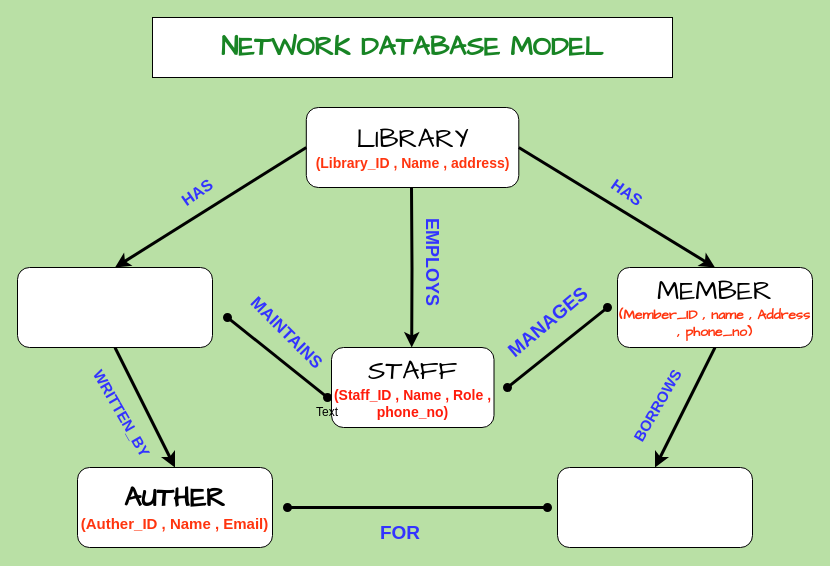
Image size: 830x566. Some labels were removed from this diagram. Each missing label, with the box of its shape:
BOOK (Book_id , Title , Publisher , Year): (16, 266, 212, 348)
LOAN (Loan_ID , Issue_Date , Return_Date): (556, 466, 752, 548)
